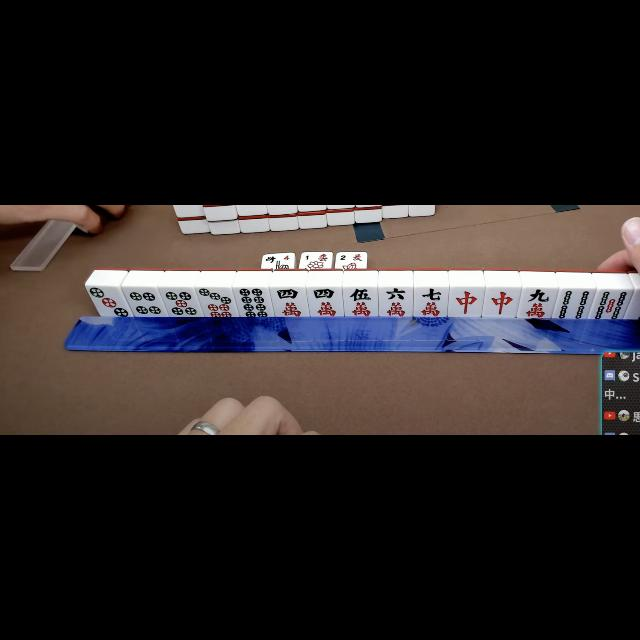b4: (556, 289, 590, 319)
b5: (595, 288, 627, 320)
c4: (273, 286, 307, 318), (308, 286, 342, 316)
c5: (344, 286, 376, 316)
c6: (378, 286, 412, 316)
c7: (414, 287, 448, 317)
c9: (520, 288, 554, 318)
d3: (88, 286, 128, 318)
d4: (128, 286, 162, 316)
d5: (164, 287, 198, 317)
d7: (198, 286, 234, 316)
d8: (234, 286, 272, 318)
dr: (484, 287, 518, 317), (450, 286, 482, 316)
f4: (261, 252, 295, 264)
s1: (300, 252, 332, 262)
s2: (337, 252, 368, 264)
